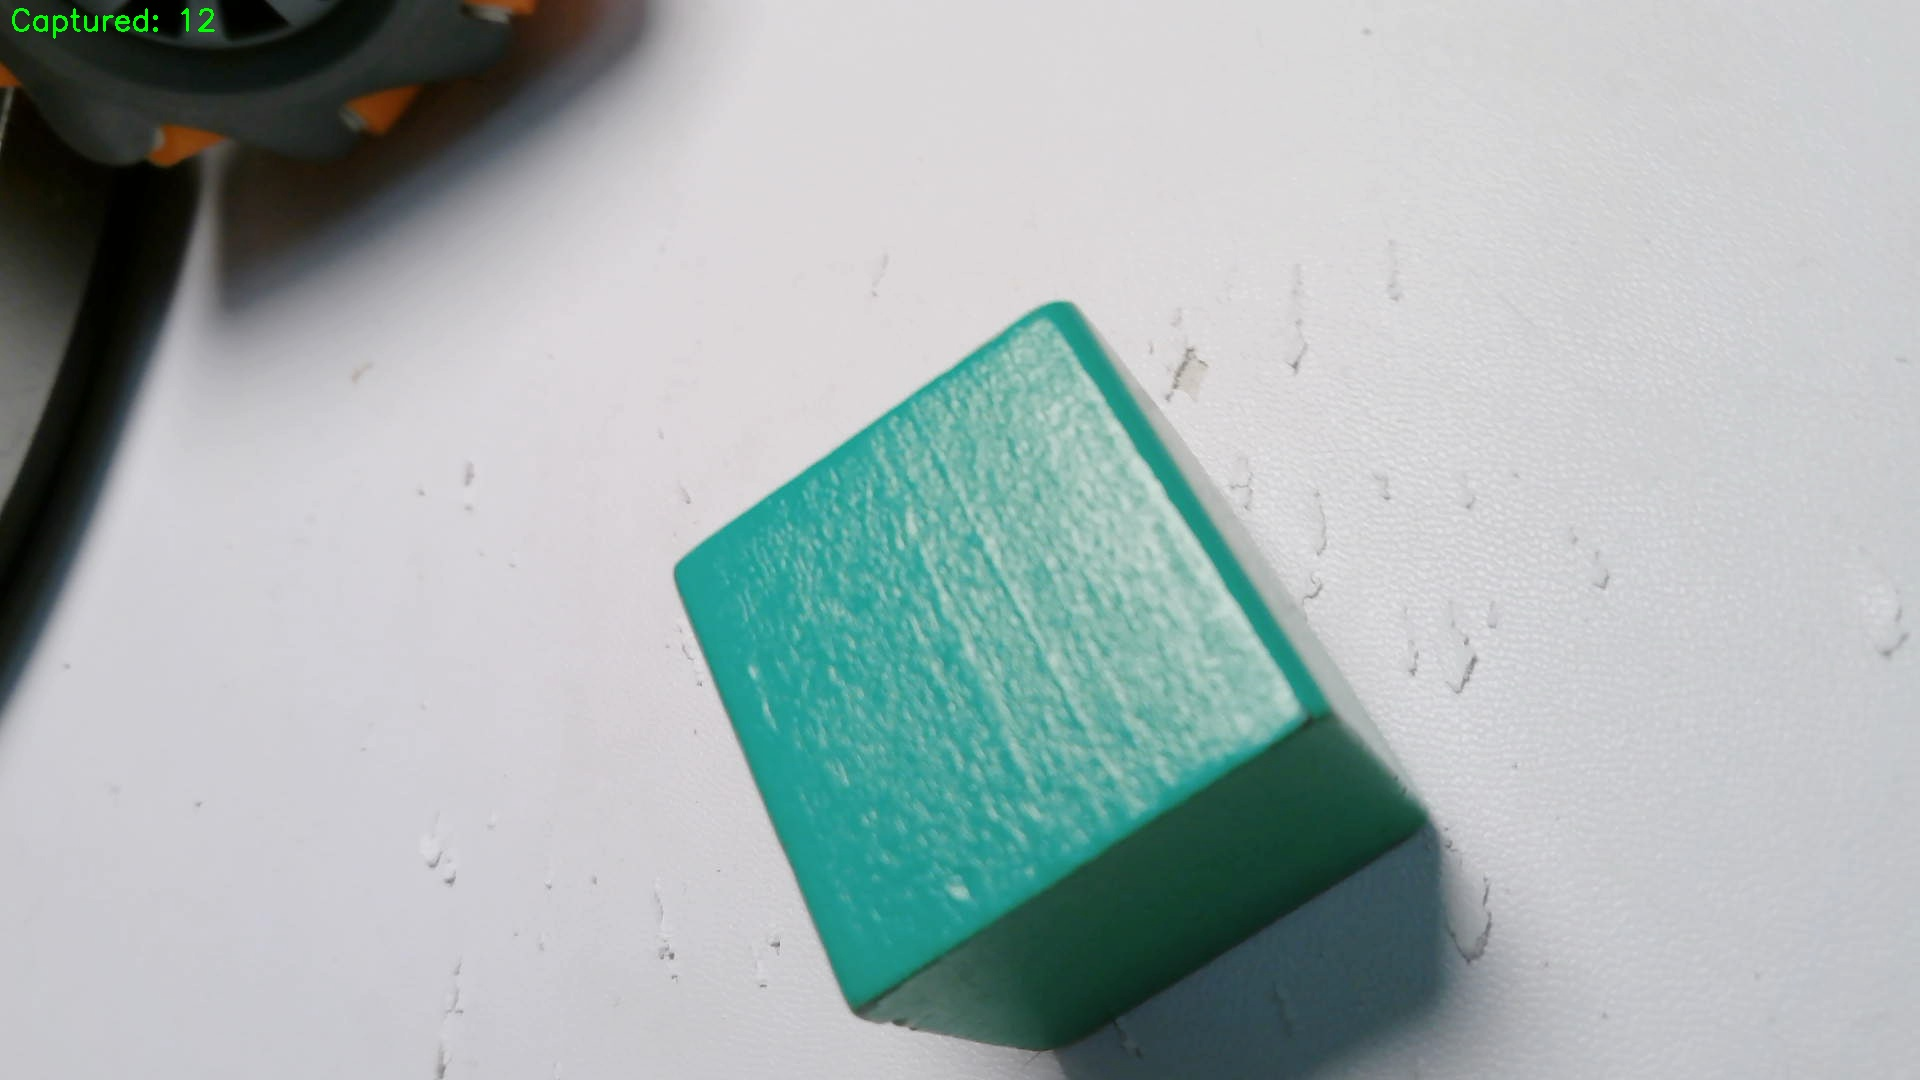green: (671, 307, 1424, 1054)
